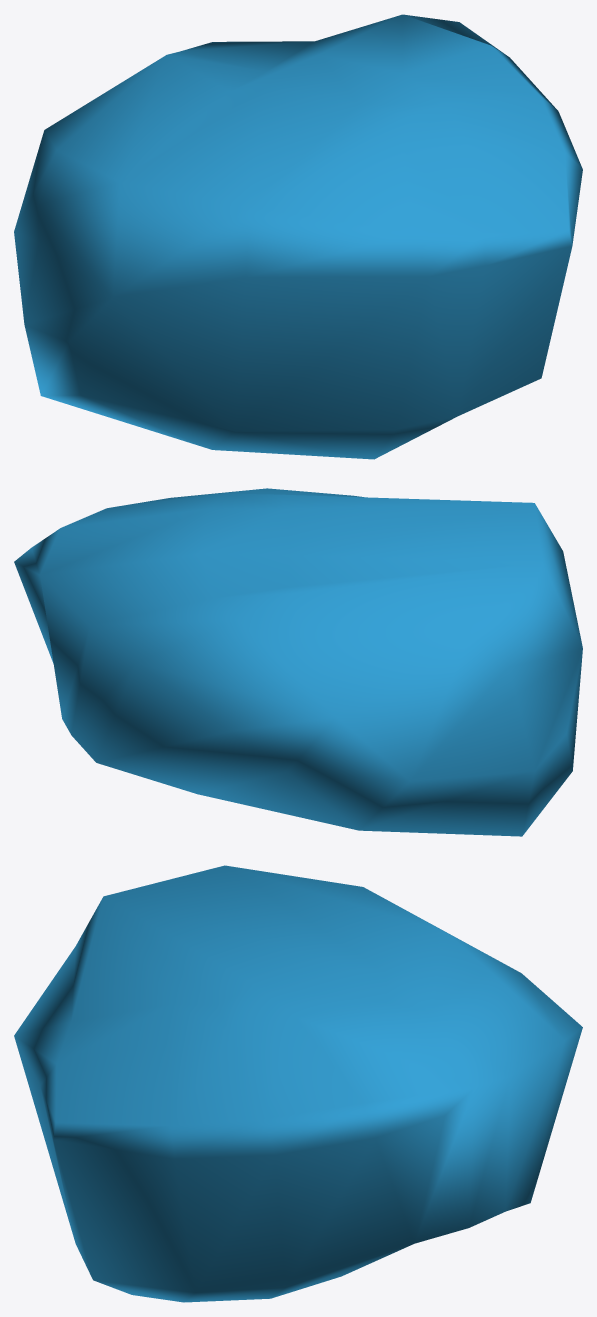
The model's file is Rock_S_03_Lod1.fbx.
3 renders of one model, top to bottom at view 1: azimuth 30°, elevation 25°; view 2: azimuth 150°, elevation 25°; view 3: azimuth 270°, elevation 25°, orthographic. The views are drawn at different scales.
Parts seen in each view (by area): view 1: Rock_S_03_Lod1; view 2: Rock_S_03_Lod1; view 3: Rock_S_03_Lod1.
Part boxes in pixels (<box>): Rock_S_03_Lod1: <box>14,14,582,459</box>; Rock_S_03_Lod1: <box>14,488,582,836</box>; Rock_S_03_Lod1: <box>14,865,582,1302</box>.
Size of the model in its own units: 492 by 297 by 472.
